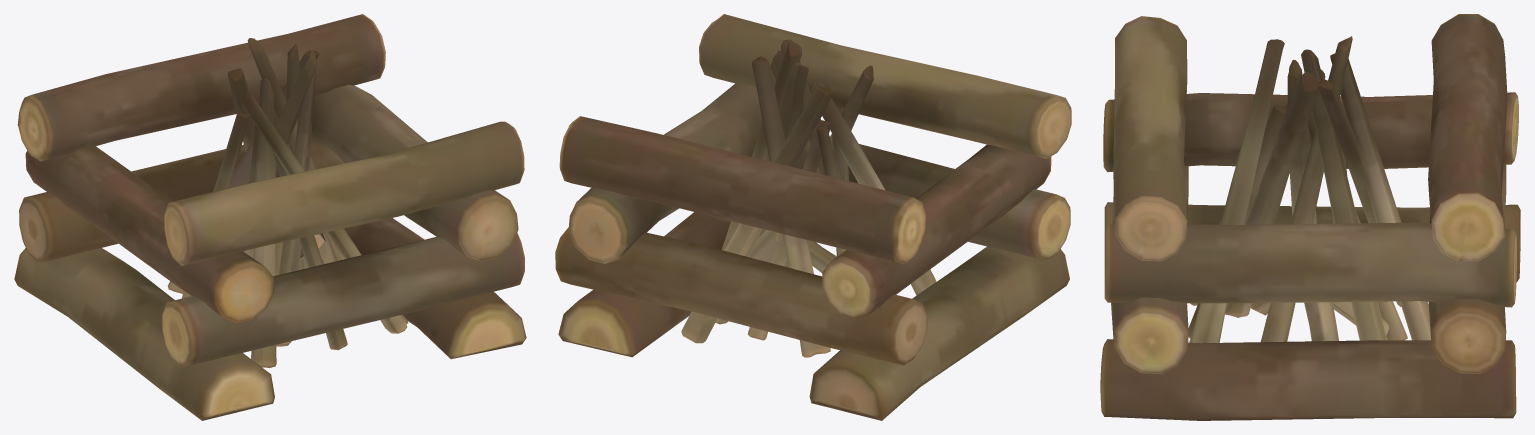
The model's file is campfire.glb.
The picture shows the model from 3 angles, left to right: view 1: azimuth 30°, elevation 25°; view 2: azimuth 150°, elevation 25°; view 3: azimuth 270°, elevation 25°; orthographic projection. The views are drawn at different scales.
Size of the model in its own units: 16.64 by 12.49 by 15.89.
1 material, 1 textured.
